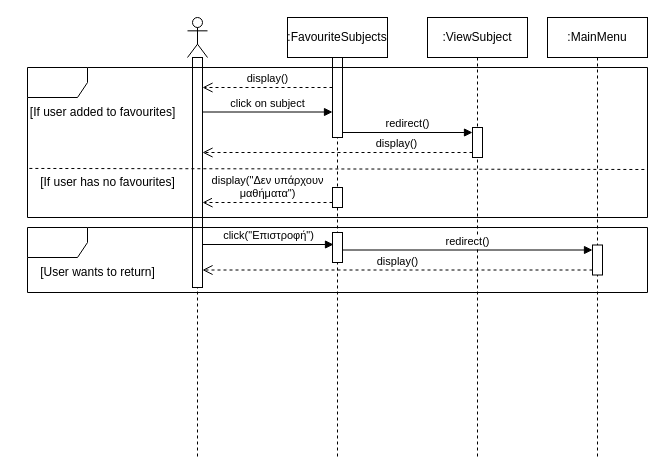
This 666x475 diagram has some shape labels left out. The shapes that lost their labels are listed below. From the top down, each one's box as (x1, y1, x2, y2) in pixels, then its label:
(26, 66, 648, 218): loop
(26, 226, 648, 292): alt
